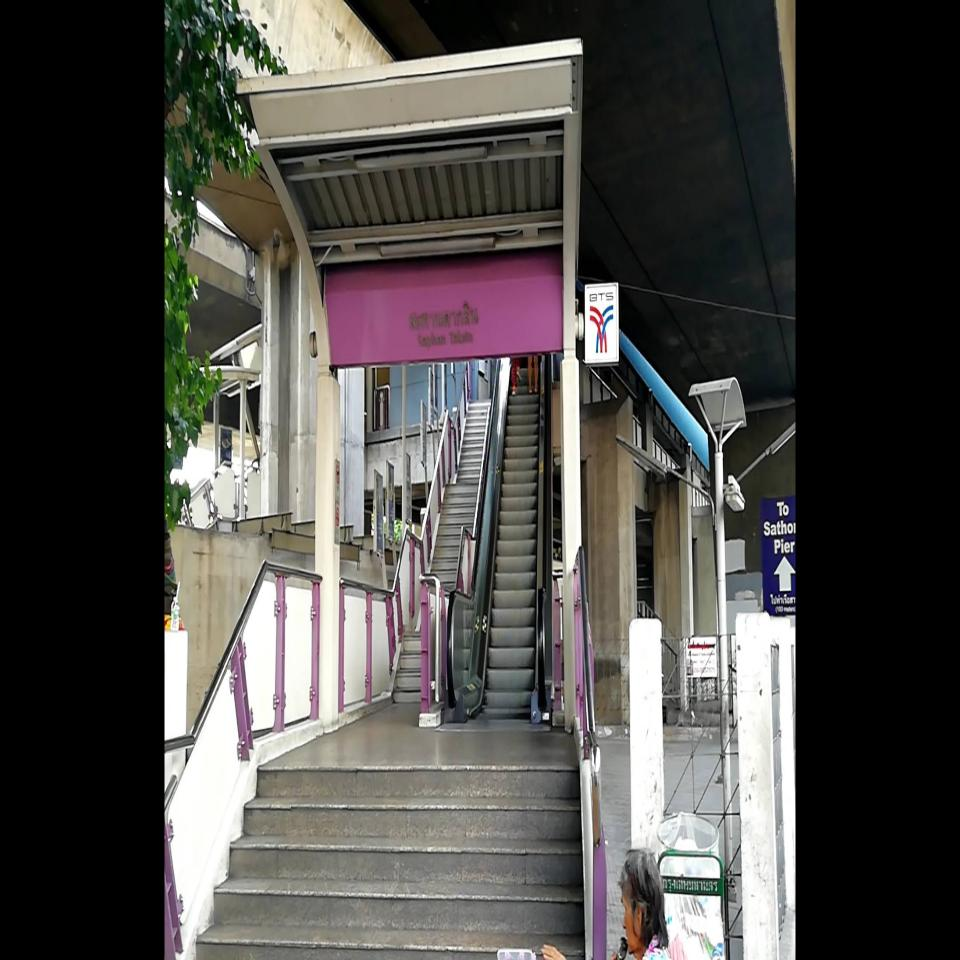Saphan Taksin: (326, 274, 619, 364), (326, 274, 564, 364)
